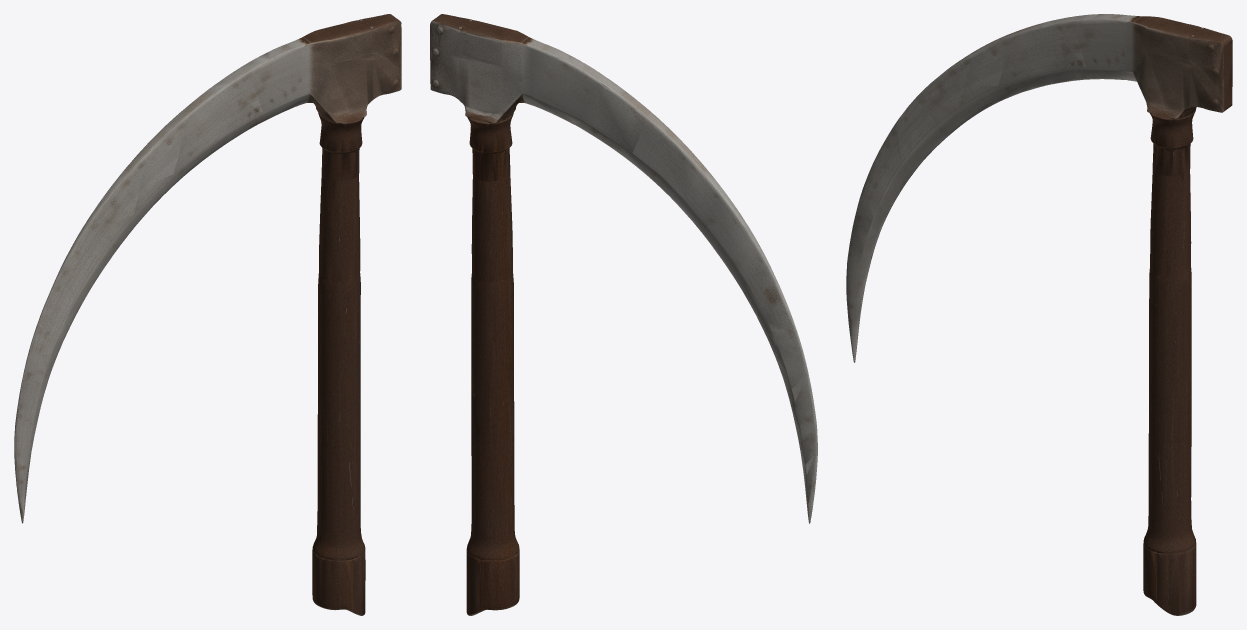
Rendered from Sickle.fbx.
3 renders of one model, left to right at view 1: azimuth 30°, elevation 25°; view 2: azimuth 150°, elevation 25°; view 3: azimuth 330°, elevation 25°, orthographic.
Visible parts, largest first — view 1: Mesh_0; view 2: Mesh_0; view 3: Mesh_0.
Boxes of the visible parts, <box> form: Mesh_0: <box>14,14,401,615</box>; Mesh_0: <box>430,14,817,615</box>; Mesh_0: <box>846,14,1232,615</box>.
Size of the model in its own units: 131 by 190 by 15.75.
Materials: 1 (1 with a texture image).
